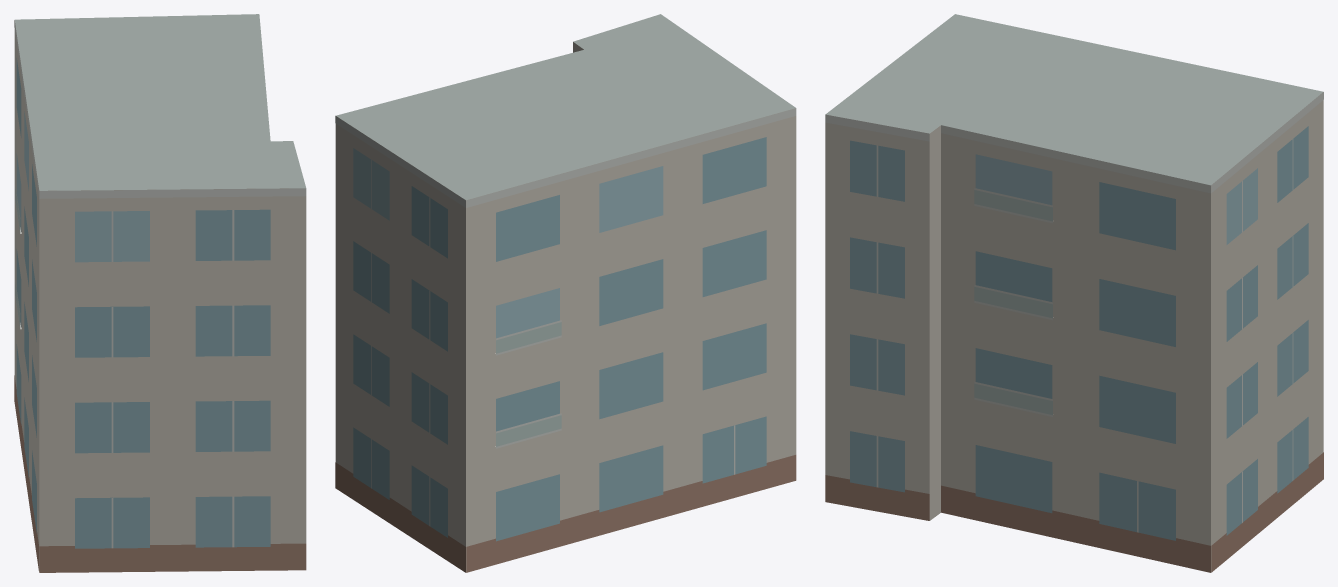
Rendered from survey-upis-32733928.glb.
3 views of the same model, side by side, from view 1: azimuth 30°, elevation 25°; view 2: azimuth 150°, elevation 25°; view 3: azimuth 270°, elevation 25° (orthographic). The views are drawn at different scales.
Parts seen in each view (by area): view 1: survey-upis-32733928.tmp; view 2: survey-upis-32733928.tmp; view 3: survey-upis-32733928.tmp.
Part boxes in pixels (box(x1,y1,x2,y2)): survey-upis-32733928.tmp: box(14, 14, 306, 572); survey-upis-32733928.tmp: box(335, 14, 796, 572); survey-upis-32733928.tmp: box(825, 14, 1323, 572).
Size of the model in its own units: 11.11 by 11.7 by 13.65.
